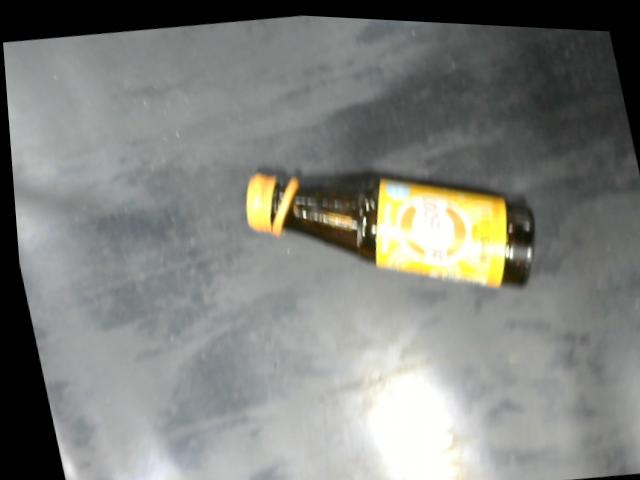glass: (242, 165, 534, 288)
